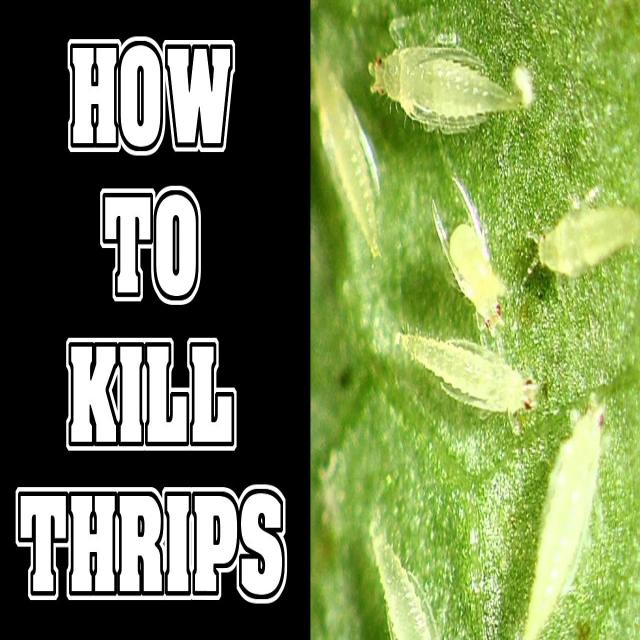Thrip-Larva-: (357, 17, 540, 148), (520, 382, 610, 636), (313, 57, 395, 266), (390, 322, 546, 424)
